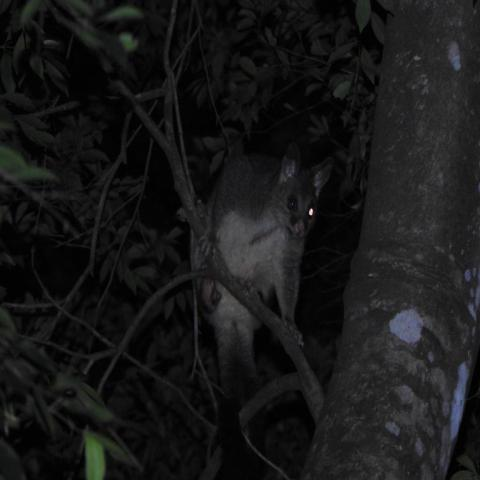small_animal: (190, 140, 333, 402)
